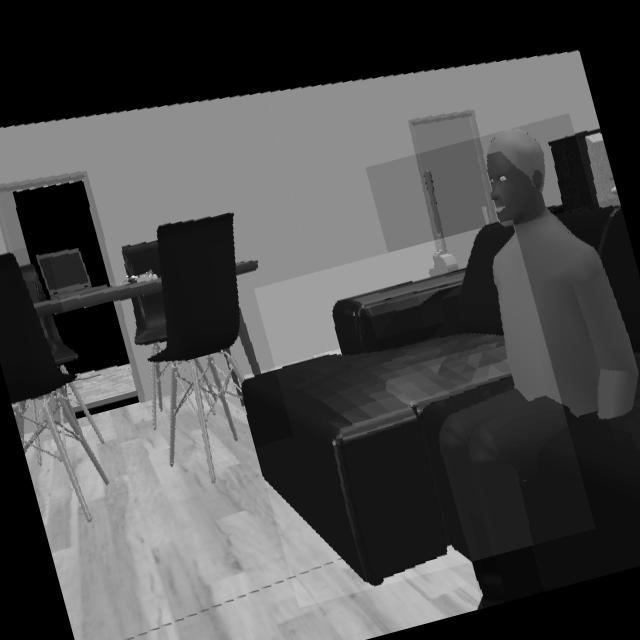chair: (121, 212, 244, 466), (0, 253, 76, 405)
laptop: (36, 250, 90, 297)
person: (439, 130, 639, 604)
sofa: (241, 223, 515, 585), (520, 206, 640, 590)
table: (34, 278, 162, 318)
